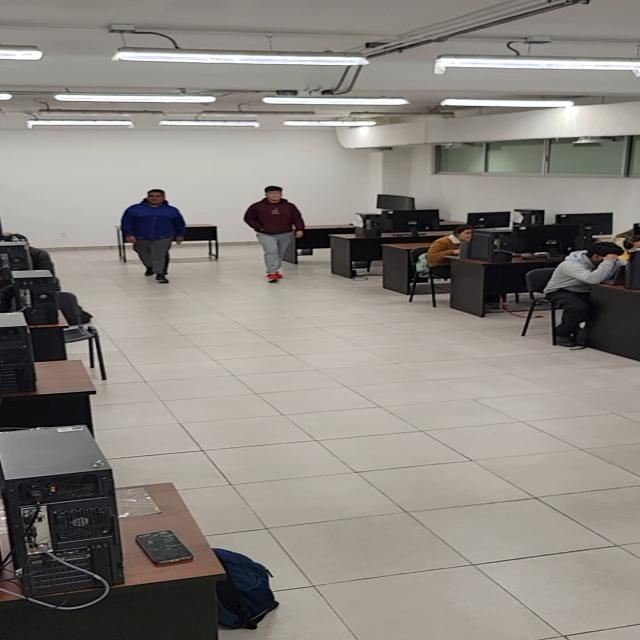Persona: (242, 184, 308, 293), (118, 188, 185, 285)
